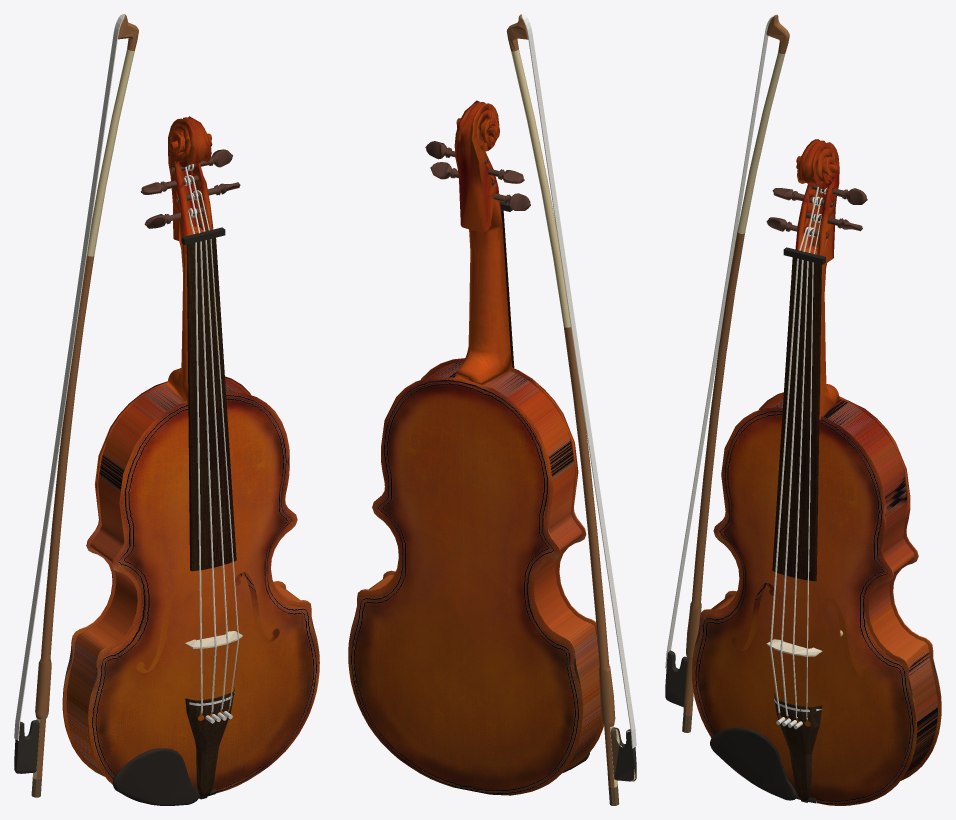
The model's file is violin.glb.
3 renders of one model, left to right at view 1: azimuth 30°, elevation 25°; view 2: azimuth 150°, elevation 25°; view 3: azimuth 330°, elevation 25°, orthographic. The views are drawn at different scales.
Parts seen in each view (by area): view 1: top, fingerboard, ribs, stick, hair, chinrest, back, tailpiece, pegbox, scroll, pegs, string-d (+5 smaller); view 2: back, ribs, stick, neck, hair, pegbox, top, scroll, pegs, frog; view 3: top, fingerboard, ribs, stick, chinrest, back, hair, tailpiece, pegbox, pegs, scroll, string-d (+5 smaller).
Boxes of the visible parts, x1,y1,x2,y2 form: top: (88,391,319,793); fingerboard: (186,237,236,571); ribs: (62,380,310,775); stick: (35,38,137,778); hair: (14,14,124,740); chinrest: (112,748,199,805); back: (63,376,285,776); tailpiece: (185,688,234,799); pegbox: (168,153,212,254); scroll: (168,116,212,164); pegs: (140,149,240,228); string-d: (185,164,216,712); back: (348,377,582,795); ribs: (358,358,603,792); stick: (507,36,615,787); neck: (455,201,512,385); hair: (521,14,636,748); pegbox: (454,136,502,232); top: (383,358,603,770); scroll: (454,100,499,161); pegs: (425,141,530,210); frog: (610,726,636,782); top: (692,407,916,805); fingerboard: (772,257,821,581); ribs: (701,396,941,779); stick: (683,41,787,715); chinrest: (710,727,796,800); back: (724,392,940,780); hair: (665,14,775,668); tailpiece: (774,693,822,802); pegbox: (795,167,839,272); pegs: (766,185,867,238); scroll: (796,139,839,188); string-d: (780,187,826,716).
Bounding box in the file's own units: 26 × 68.9 × 7.25.
Materials: 15 (3 with a texture image).
